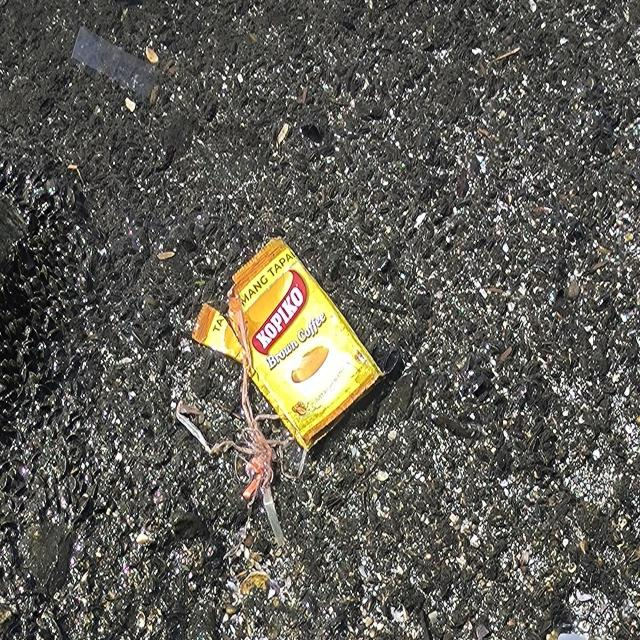plastic_waste: (192, 235, 389, 454)
